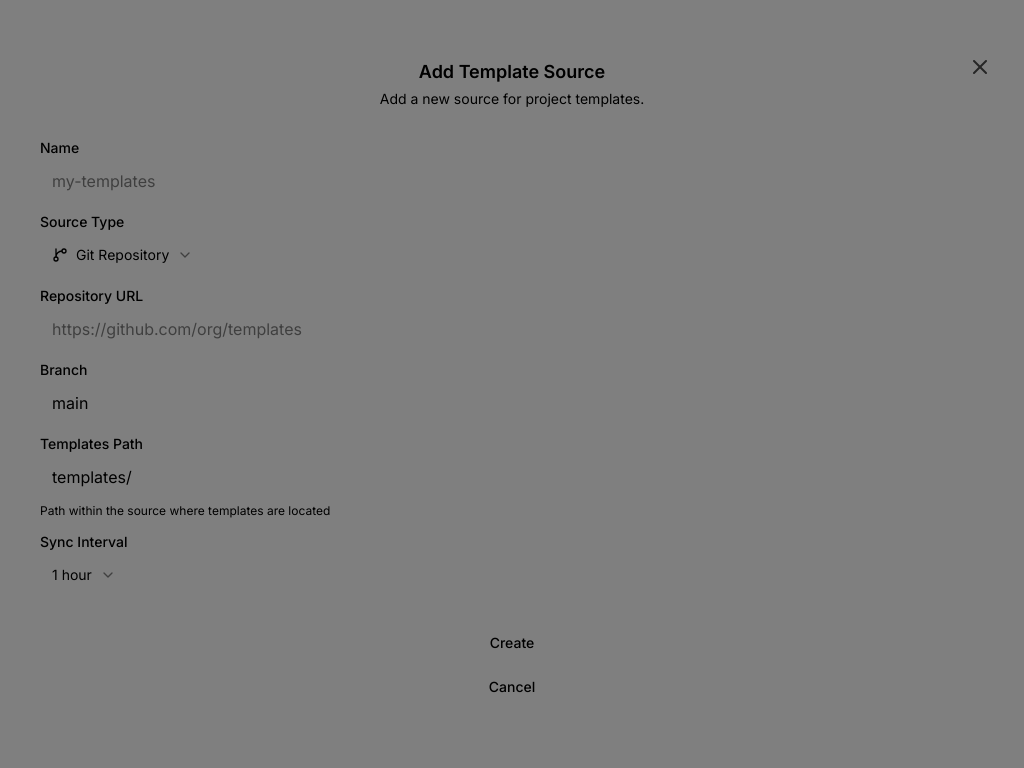
TemplateSourceDialog › validates name format
Type "Invalid Name!" into the field labelled "Name".
click(512, 181); type("Invalid Name!")  # box [40,163,984,199]
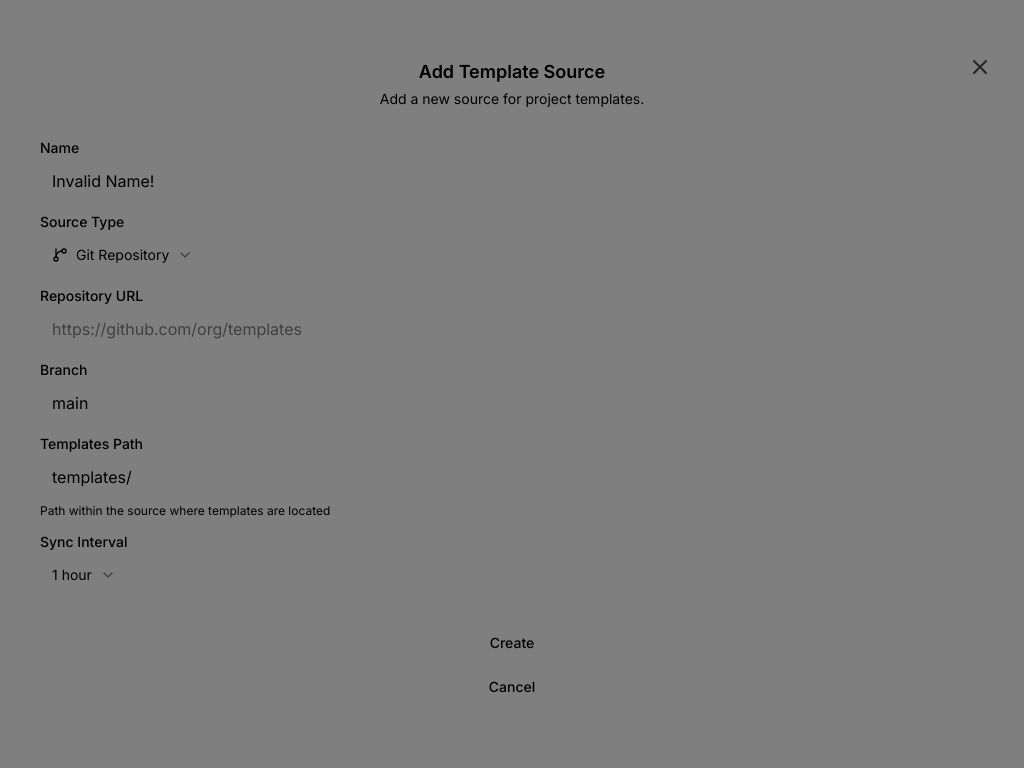
Click the button "Create".
click(512, 643)  # box [40,625,984,661]
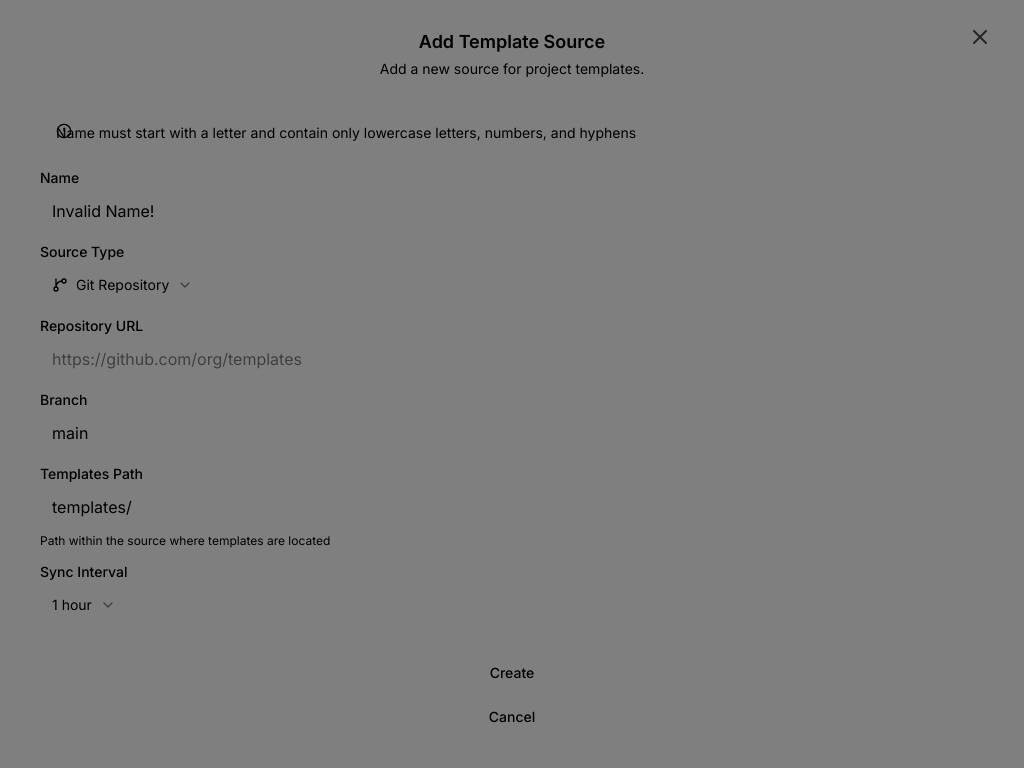
Expected: the text "must start with a letter" is shown, [56,124,636,141]
